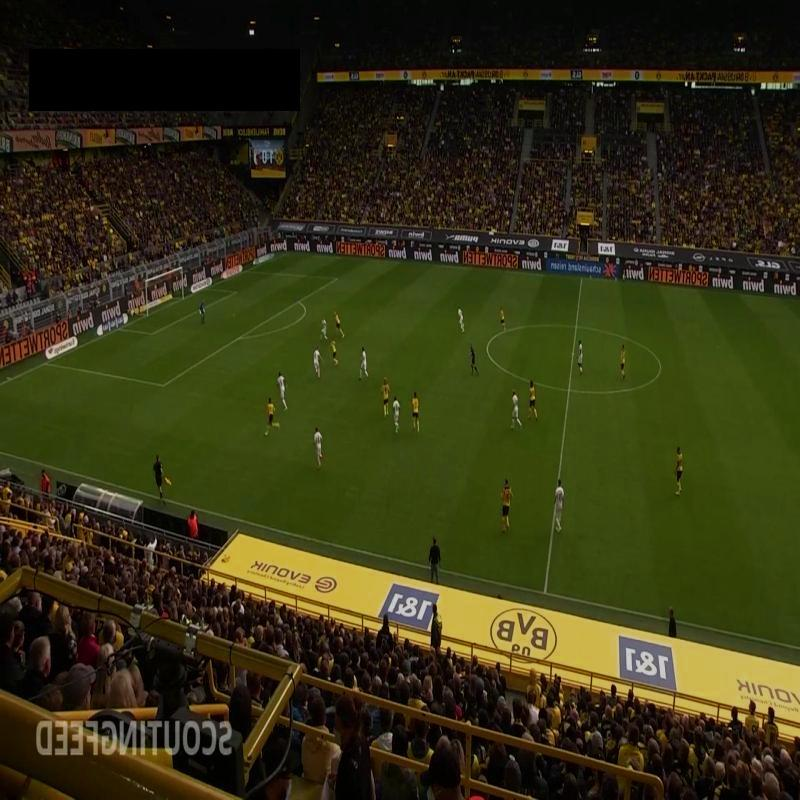1: (280, 249, 294, 262)
10: (292, 294, 306, 308)
11: (234, 330, 248, 344)
12: (156, 379, 170, 393)
13: (575, 272, 589, 286)
14: (569, 320, 584, 334)
15: (562, 382, 576, 396)
16: (536, 582, 555, 604)
2: (236, 264, 250, 278)
3: (195, 282, 209, 296)
4: (112, 322, 127, 336)
5: (38, 357, 52, 371)
7: (229, 284, 243, 298)
8: (145, 327, 159, 341)
9: (330, 271, 344, 285)
c: (480, 336, 496, 354), (652, 362, 666, 376)
